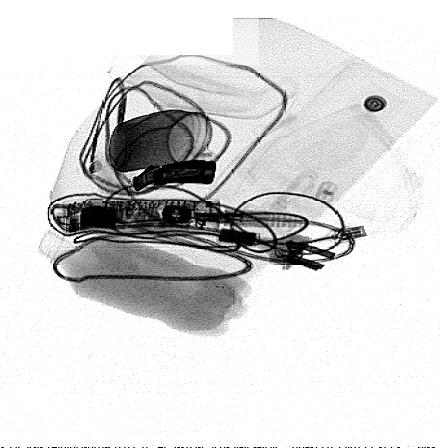Lighter: (131, 159, 217, 193)
